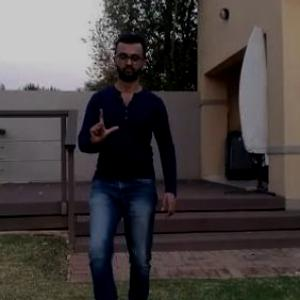land_hand: (81, 96, 120, 147)
